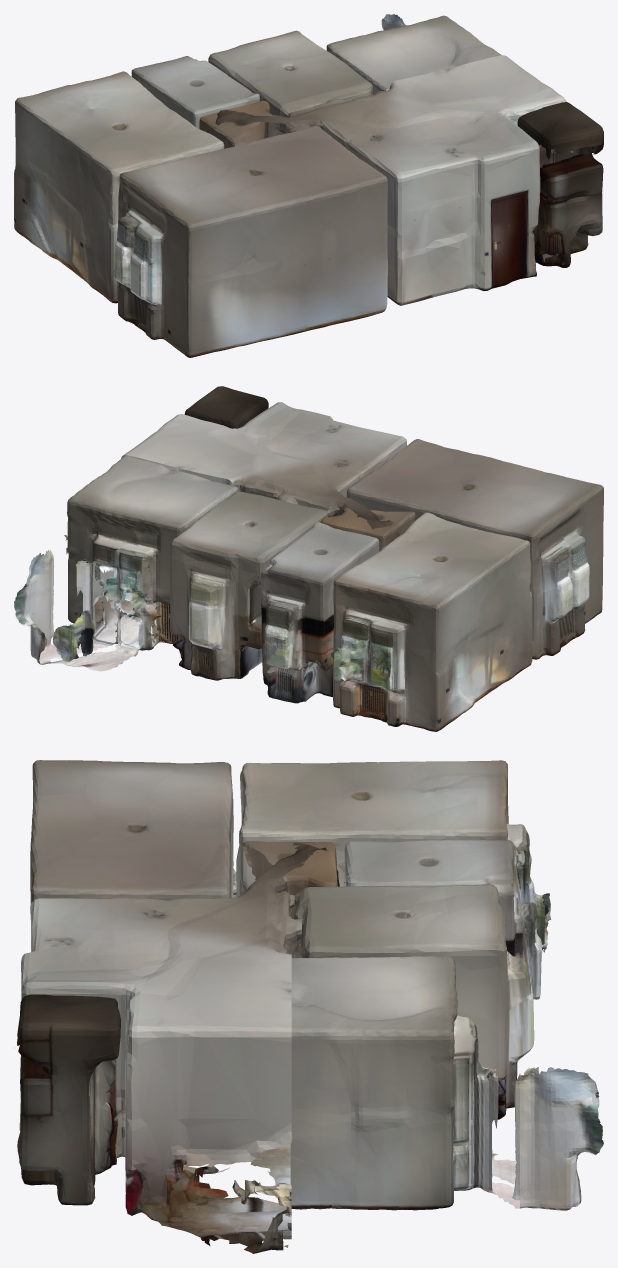
File: casa.obj
3 views of the same model, one above another, from view 1: azimuth 30°, elevation 25°; view 2: azimuth 150°, elevation 25°; view 3: azimuth 270°, elevation 25° (orthographic). The views are drawn at different scales.
Parts seen in each view (by area): view 1: Scaniverse_2026_09_16_182155, Scaniverse_2026_09_16_182948, Scaniverse_2026_09_16_183903; view 2: Scaniverse_2026_09_16_182155, Scaniverse_2026_09_16_182948, Scaniverse_2026_09_16_183903; view 3: Scaniverse_2026_09_16_182948, Scaniverse_2026_09_16_182155, Scaniverse_2026_09_16_183903.
Part boxes in pixels (bbox=[...]): Scaniverse_2026_09_16_182155: bbox=[14, 56, 387, 357]; Scaniverse_2026_09_16_182948: bbox=[206, 30, 603, 305]; Scaniverse_2026_09_16_183903: bbox=[326, 14, 501, 94]; Scaniverse_2026_09_16_182155: bbox=[260, 439, 603, 731]; Scaniverse_2026_09_16_182948: bbox=[64, 386, 406, 680]; Scaniverse_2026_09_16_183903: bbox=[14, 456, 238, 671]; Scaniverse_2026_09_16_182948: bbox=[17, 842, 534, 1253]; Scaniverse_2026_09_16_182155: bbox=[30, 760, 551, 999]; Scaniverse_2026_09_16_183903: bbox=[290, 955, 603, 1210].
Bounding box in the file's own units: 12.45 × 3.41 × 9.48.
Materials: 3 (3 with a texture image).
